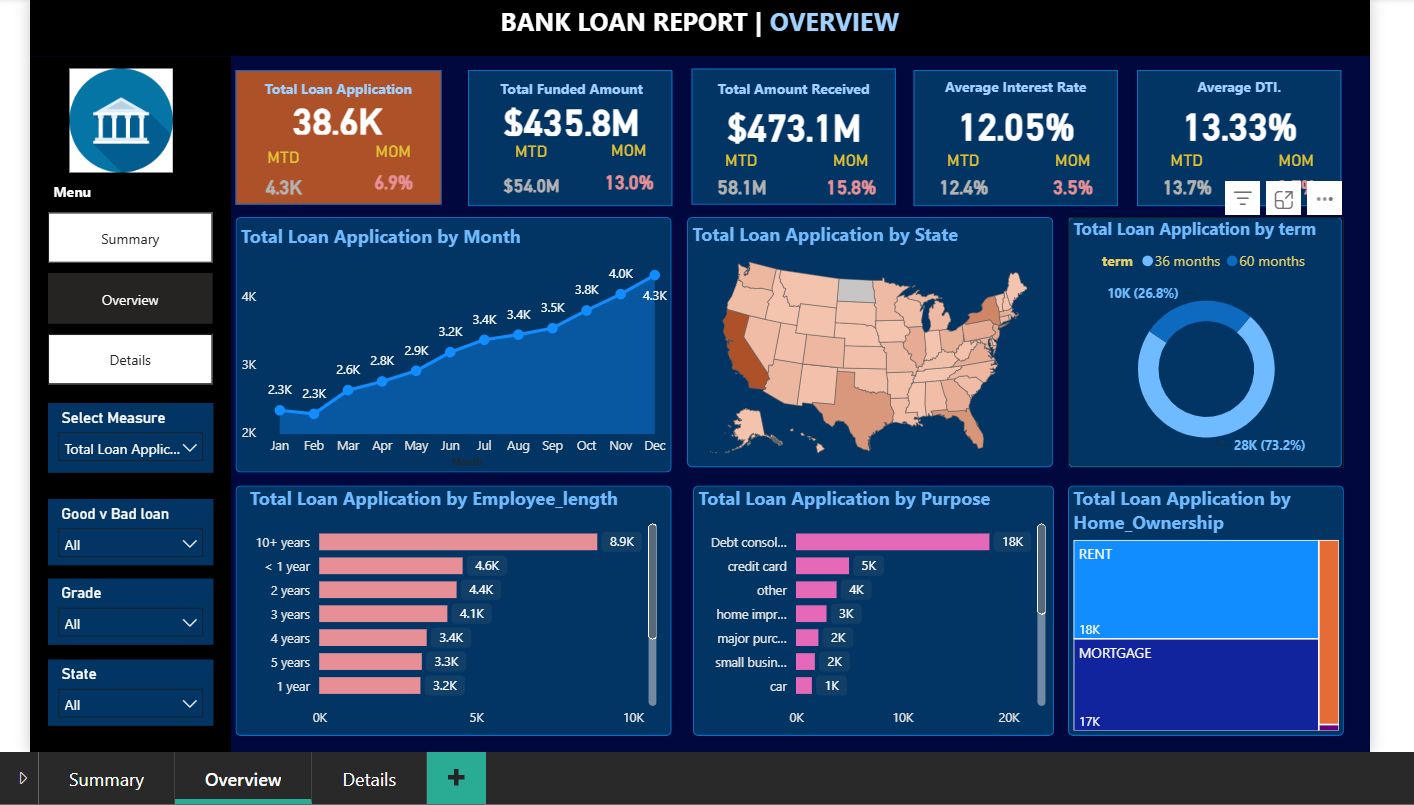

What the dashboard file says about the page in this screenshot:
{"tool":"powerbi","page":{"name":"Overview","canvas":[1280,720],"ordinal":1},"visuals":[{"type":"shape","box":[0,0,1280.1,55.3],"z":0},{"type":"shape","box":[632.6,66.7,195.2,130.1],"z":0,"group":"g3"},{"type":"shape","box":[196.6,68.3,196.8,128.6],"z":0,"group":"g1"},{"type":"shape","box":[418,68.3,195.2,130.1],"z":0,"group":"g2"},{"type":"shape","box":[844.3,68.3,195.2,130.1],"z":0,"group":"g4"},{"type":"shape","box":[1057.4,68.3,195.2,130.1],"z":0,"group":"g5"},{"type":"shape","box":[0,55.3,191.9,665.3],"z":1000},{"type":"textbox","box":[357,0,566,48.8],"z":2000},{"type":"group","id":"g1","title":"Group 1","box":[193.6,68.3,200.1,130.1],"z":3000},{"type":"group","id":"g2","title":"Group 1","box":[418,68.3,197.2,136.1],"z":4000},{"type":"card","fields":{"Values":["Bank_loan_data.Total Loan Application"]},"box":[193.6,94.3,199.8,40.9],"z":4000,"group":"g1"},{"type":"card","fields":{"Values":["Bank_loan_data.Average Interest Rate"]},"box":[844.2,94.6,195.2,50.4],"z":4000,"group":"g4"},{"type":"card","fields":{"Values":["Bank_loan_data.Average DTI"]},"box":[1057.3,94.6,195.2,50.4],"z":4000,"group":"g5"},{"type":"card","fields":{"Values":["Bank_loan_data.Total Amount Received"]},"box":[631.9,94.7,195.2,50.4],"z":4000,"group":"g3"},{"type":"card","fields":{"Values":["Bank_loan_data.Total Funded Amount"]},"box":[418,94.8,196.8,42.3],"z":4000,"group":"g2"},{"type":"group","id":"g3","title":"Group 1","box":[631.9,66.7,195.2,130.1],"z":5000},{"type":"textbox","box":[844.2,70.2,195.2,34.2],"z":5000,"group":"g4"},{"type":"textbox","box":[1057.3,70.2,195.2,34.2],"z":5000,"group":"g5"},{"type":"textbox","box":[631.9,70.3,195.2,34.2],"z":5000,"group":"g3"},{"type":"textbox","box":[197,70.5,196.5,33.1],"z":5000,"group":"g1"},{"type":"textbox","box":[420,70.8,195.2,34.2],"z":5000,"group":"g2"},{"type":"group","id":"g4","title":"Group 1","box":[844.2,68.3,195.2,130.1],"z":6000},{"type":"card","title":"MTD","fields":{"Values":["Bank_loan_data.MTD Funded Amount"]},"box":[435.9,137.7,86.2,66.7],"z":6000,"group":"g2"},{"type":"card","title":"MTD","fields":{"Values":["Bank_loan_data.MTD loan Application"]},"box":[213.8,142.2,56.9,56.6],"z":6000,"group":"g1"},{"type":"card","title":"MTD","fields":{"Values":["Bank_loan_data.MTD Average Interest"]},"box":[860.5,145,63.4,52],"z":6000,"group":"g4"},{"type":"card","title":"MTD","fields":{"Values":["Bank_loan_data.MTD Average DTI"]},"box":[1073.6,145,63.4,52],"z":6000,"group":"g5"},{"type":"card","title":"MTD","fields":{"Values":["Bank_loan_data.MTD Total Amount Received"]},"box":[648.2,145.2,63.4,52],"z":6000,"group":"g3"},{"type":"group","id":"g5","title":"Group 1","box":[1057.3,68.3,195.2,130.1],"z":7000},{"type":"card","title":"MOM","fields":{"Values":["Bank_loan_data.MOM Funded Amount"]},"box":[539.6,135.5,63.4,61.8],"z":7000,"group":"g2"},{"type":"card","title":"MOM","fields":{"Values":["Bank_loan_data.MOM loan application"]},"box":[315.1,137,63.4,58.2],"z":7000,"group":"g1"},{"type":"card","title":"MOM","fields":{"Values":["Bank_loan_data.MOM Average Interest"]},"box":[964.6,145,63.4,52],"z":7000,"group":"g4"},{"type":"card","title":"MOM","fields":{"Values":["Bank_loan_data.MOM Average DTI"]},"box":[1177.7,145,63.4,52],"z":7000,"group":"g5"},{"type":"card","title":"MOM","fields":{"Values":["Bank_loan_data.MOM Amount Received"]},"box":[752.3,145.2,63.4,52],"z":7000,"group":"g3"},{"type":"slicer","fields":{"Values":["Bank_loan_data.Good v Bad Loan"]},"box":[17.9,478.2,157.8,63.4],"z":8000},{"type":"slicer","fields":{"Values":["Bank_loan_data.grade"]},"box":[17.9,554.7,157.8,63.4],"z":9000},{"type":"slicer","fields":{"Values":["Bank_loan_data.address_state"]},"box":[17.9,631.1,157.8,63.4],"z":10000},{"type":"textbox","box":[17.9,170.8,65.1,34.2],"z":11000},{"type":"shape","box":[196.8,209.8,416.4,244],"z":12000},{"type":"areaChart","fields":{"Y":["Bank_loan_data.Total Loan Application"],"Category":["Date Table.Month"]},"box":[196.8,214.7,418,239.1],"z":13000},{"type":"slicer","fields":{"Values":["Select Measure.Select Measure"]},"box":[17.9,387.1,157.8,66.7],"z":14000},{"type":"shape","box":[627.8,209.8,349.7,239.1],"z":15000},{"type":"shapeMap","fields":{"Value":["Bank_loan_data.Total Loan Application"],"Category":["Bank_loan_data.address_state"]},"box":[627.8,213.1,346.5,235.8],"z":16000},{"type":"shape","box":[990.6,209.8,261.9,239.1],"z":17000},{"type":"donutChart","fields":{"Category":["Bank_loan_data.term"],"Y":["Bank_loan_data.Total Loan Application"]},"box":[990.6,209.8,263.5,239.1],"z":18000},{"type":"shape","box":[196.8,465.2,416.4,239.1],"z":19000},{"type":"clusteredBarChart","fields":{"Y":["Bank_loan_data.Total Loan Application"],"Category":["Bank_loan_data.emp_length"]},"box":[204.9,465.2,398.5,239.1],"z":20000},{"type":"shape","box":[632.7,465.2,344.8,239.1],"z":21000},{"type":"clusteredBarChart","fields":{"Y":["Bank_loan_data.Total Loan Application"],"Category":["Bank_loan_data.purpose"]},"box":[632.7,465.2,341.6,239.1],"z":22000},{"type":"shape","box":[990.6,465.2,263.5,239.1],"z":23000},{"type":"treemap","fields":{"Values":["Bank_loan_data.Total Loan Application"],"Group":["Bank_loan_data.home_ownership"]},"box":[990.6,465.2,263.5,239.1],"z":24000},{"type":"image","box":[24.4,66.7,125.2,99.2],"z":25000},{"type":"pageNavigator","box":[17.9,204.9,157.8,165.9],"z":26000}]}

Visuals, with their boxes on the page's 1280x720 design canvas (x1, y1, x2, y2). These are canvas units, not pixel positions in the 1414x805 screenshot, which may show the page scaled, cropped or inside an application window:
shape: 0, 0, 1280, 55
shape: 633, 67, 828, 197
shape: 197, 68, 393, 197
shape: 418, 68, 613, 198
shape: 844, 68, 1040, 198
shape: 1057, 68, 1253, 198
shape: 0, 55, 192, 721
textbox: 357, 0, 923, 49
"Group 1" group: 194, 68, 394, 198
"Group 1" group: 418, 68, 615, 204
card - Bank_loan_data.Total Loan Application: 194, 94, 393, 135
card - Bank_loan_data.Average Interest Rate: 844, 95, 1039, 145
card - Bank_loan_data.Average DTI: 1057, 95, 1252, 145
card - Bank_loan_data.Total Amount Received: 632, 95, 827, 145
card - Bank_loan_data.Total Funded Amount: 418, 95, 615, 137
"Group 1" group: 632, 67, 827, 197
textbox: 844, 70, 1039, 104
textbox: 1057, 70, 1252, 104
textbox: 632, 70, 827, 104
textbox: 197, 70, 394, 104
textbox: 420, 71, 615, 105
"Group 1" group: 844, 68, 1039, 198
"MTD" card: 436, 138, 522, 204
"MTD" card: 214, 142, 271, 199
"MTD" card: 860, 145, 924, 197
"MTD" card: 1074, 145, 1137, 197
"MTD" card: 648, 145, 712, 197
"Group 1" group: 1057, 68, 1252, 198
"MOM" card: 540, 136, 603, 197
"MOM" card: 315, 137, 378, 195
"MOM" card: 965, 145, 1028, 197
"MOM" card: 1178, 145, 1241, 197
"MOM" card: 752, 145, 816, 197
slicer - Bank_loan_data.Good v Bad Loan: 18, 478, 176, 542
slicer - Bank_loan_data.grade: 18, 555, 176, 618
slicer - Bank_loan_data.address_state: 18, 631, 176, 694
textbox: 18, 171, 83, 205
shape: 197, 210, 613, 454
areaChart - Bank_loan_data.Total Loan Application x Date Table.Month: 197, 215, 615, 454
slicer - Select Measure.Select Measure: 18, 387, 176, 454
shape: 628, 210, 978, 449
shapeMap - Bank_loan_data.Total Loan Application x Bank_loan_data.address_state: 628, 213, 974, 449
shape: 991, 210, 1252, 449
donutChart - Bank_loan_data.term x Bank_loan_data.Total Loan Application: 991, 210, 1254, 449
shape: 197, 465, 613, 704
clusteredBarChart - Bank_loan_data.Total Loan Application x Bank_loan_data.emp_length: 205, 465, 603, 704
shape: 633, 465, 978, 704
clusteredBarChart - Bank_loan_data.Total Loan Application x Bank_loan_data.purpose: 633, 465, 974, 704
shape: 991, 465, 1254, 704
treemap - Bank_loan_data.Total Loan Application x Bank_loan_data.home_ownership: 991, 465, 1254, 704
image: 24, 67, 150, 166
pageNavigator: 18, 205, 176, 371
